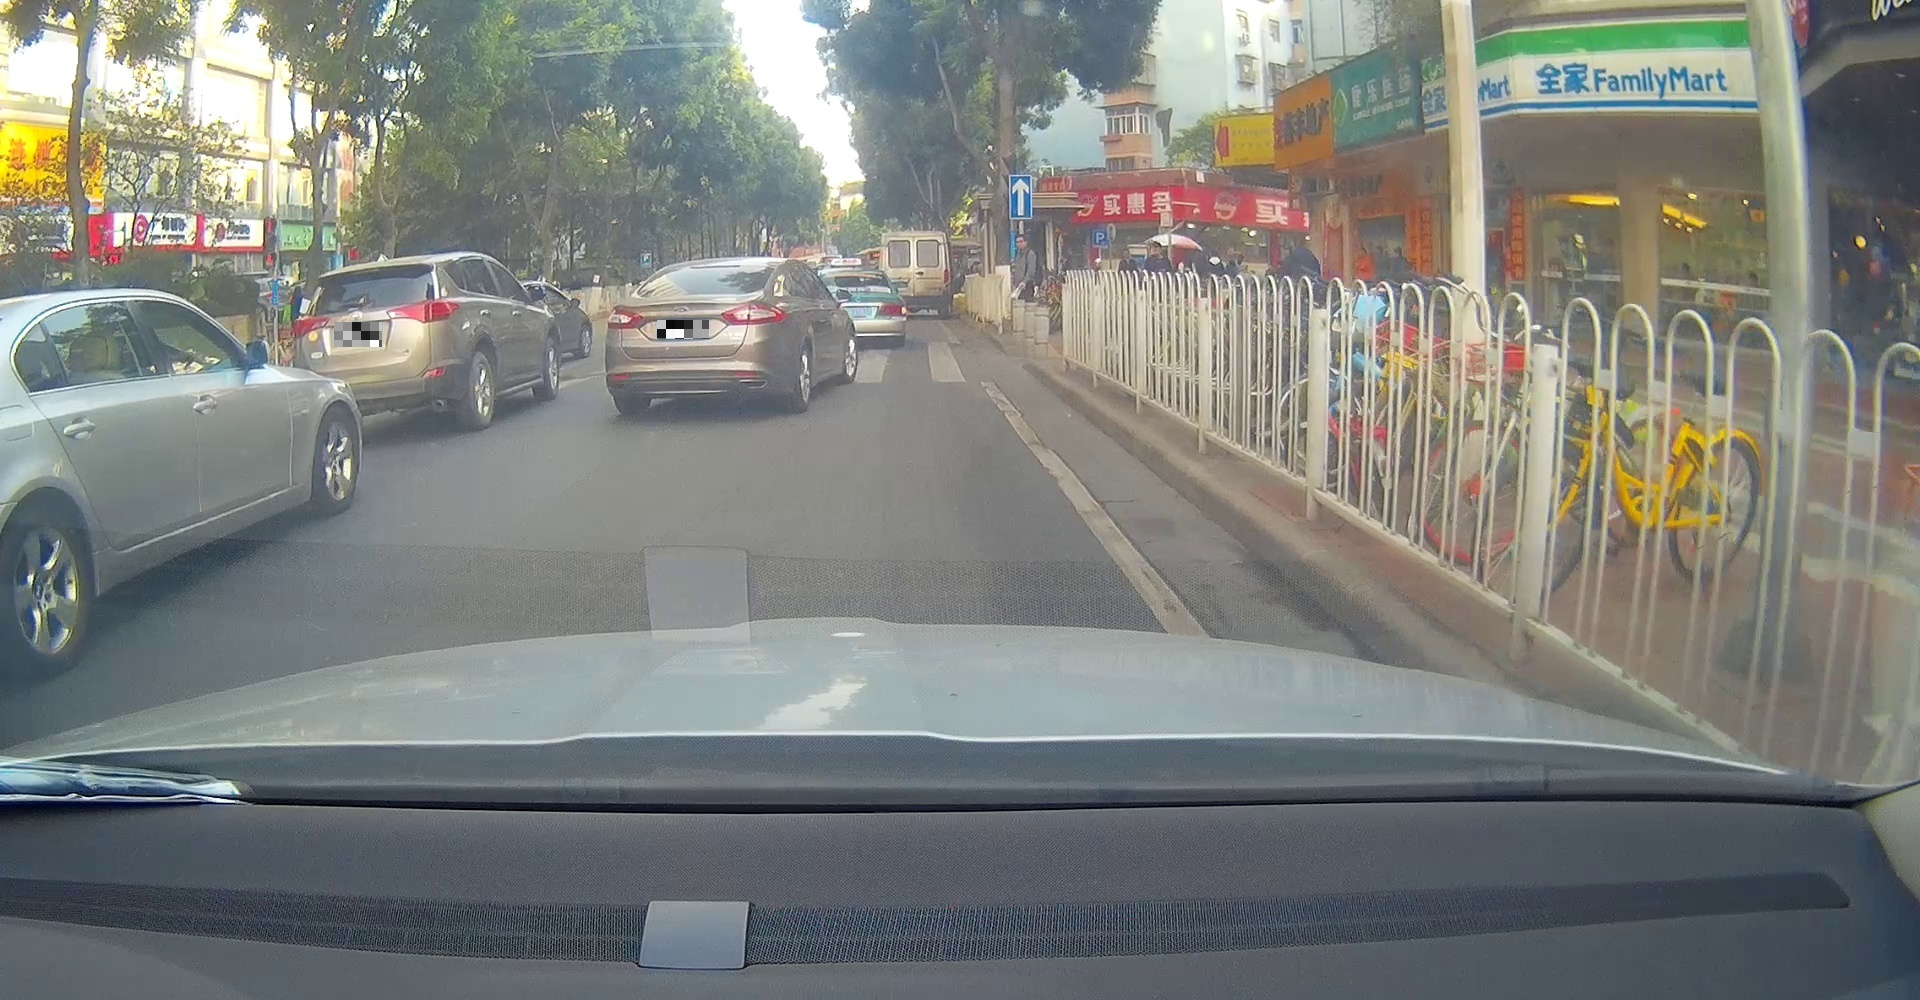L_light: (292, 316, 331, 339), (607, 307, 643, 329)
R_light: (386, 299, 460, 324), (720, 302, 787, 325)
T_light: (690, 264, 740, 269), (352, 269, 378, 275)
day-no: (292, 256, 467, 431), (604, 256, 792, 414)
plate_1: (334, 322, 382, 346)
plate_2: (657, 320, 709, 339)
